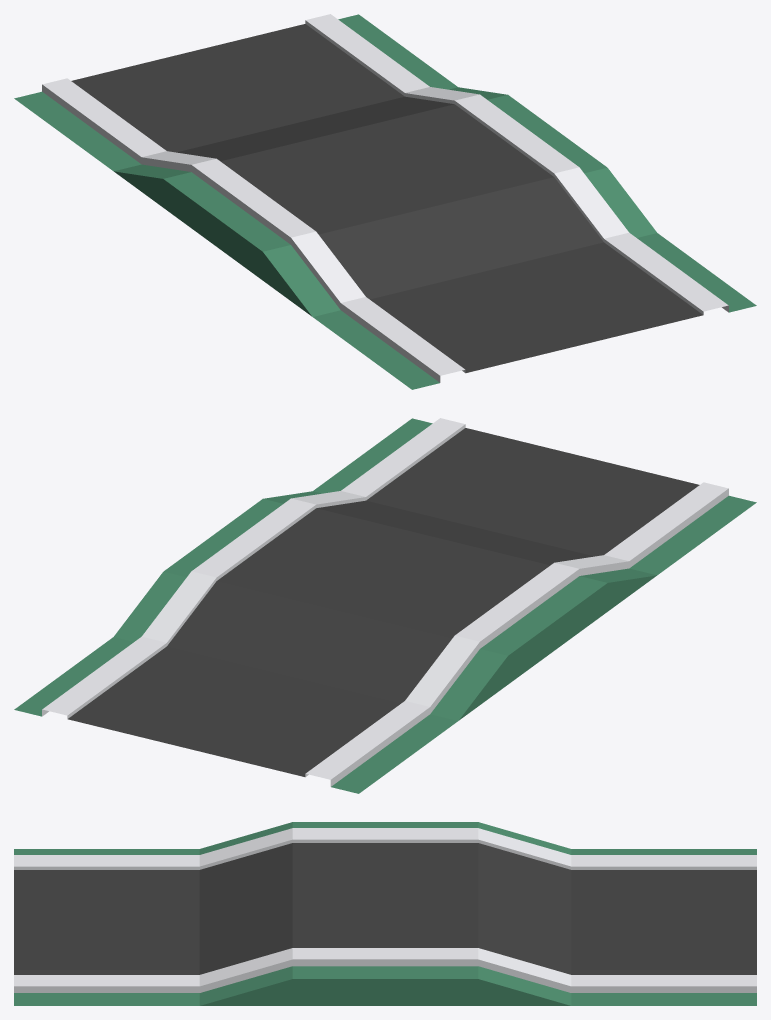
The model's file is roadBump.obj.
The picture shows the model from 3 angles, top to bottom: view 1: azimuth 30°, elevation 25°; view 2: azimuth 150°, elevation 25°; view 3: azimuth 270°, elevation 25°; orthographic projection. The views are drawn at different scales.
Visible parts, largest first — view 1: roadBump; view 2: roadBump; view 3: roadBump.
Part boxes in pixels (x1=…): roadBump: x1=14, y1=14, x2=756, y2=389; roadBump: x1=14, y1=418, x2=756, y2=793; roadBump: x1=14, y1=822, x2=756, y2=1005.
Size of the model in its own units: 1 by 0.1 by 2.
